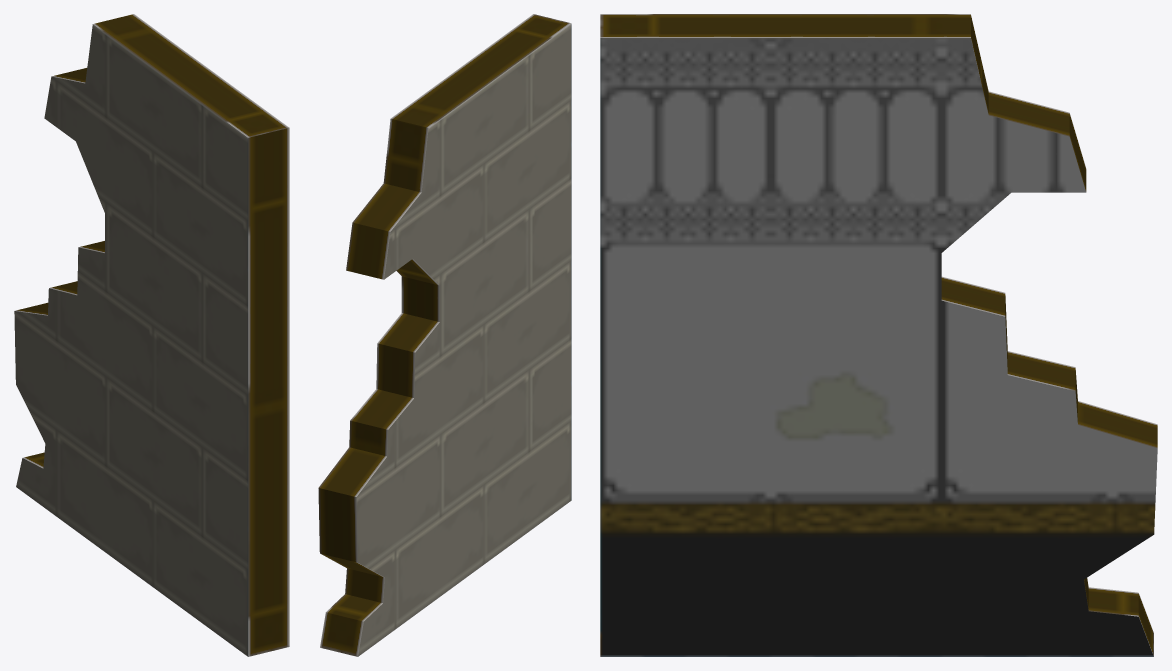
The model's file is Wall_Broken_R_12.fbx.
The picture shows the model from 3 angles, left to right: view 1: azimuth 30°, elevation 25°; view 2: azimuth 150°, elevation 25°; view 3: azimuth 270°, elevation 25°; orthographic projection. The views are drawn at different scales.
Visible parts, largest first — view 1: Wall_Broken_R_12; view 2: Wall_Broken_R_12; view 3: Wall_Broken_R_12.
Part boxes in pixels (x1=…): Wall_Broken_R_12: x1=14, y1=14, x2=289, y2=656; Wall_Broken_R_12: x1=318, y1=14, x2=571, y2=656; Wall_Broken_R_12: x1=600, y1=14, x2=1157, y2=656.
Bounding box in the file's own units: 50 × 600 × 490.
